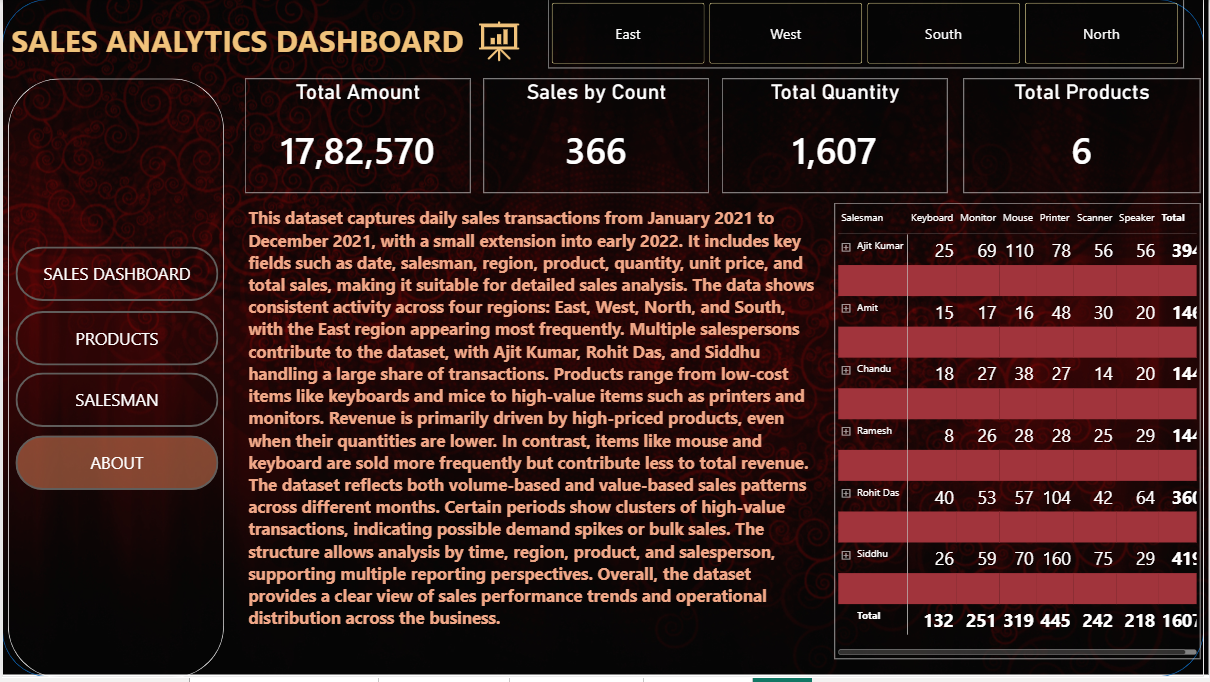

The page's visual inventory and layout, read from the dashboard file:
{"tool":"powerbi","page":{"name":"about","canvas":[1920,1080],"ordinal":3},"visuals":[{"type":"shape","box":[0,0,1912.1,1078.5],"z":0},{"type":"shape","box":[9,125.5,343.6,953],"z":1000},{"type":"cardVisual","title":"Total Amount","fields":{"Data":["data.Total Sales"]},"box":[385.4,125.5,358.5,182.2],"z":2000},{"type":"cardVisual","title":"Sales  by Count","fields":{"Data":["data.Total"]},"box":[764.8,125.5,358.5,182.2],"z":3000},{"type":"cardVisual","title":"Total Quantity","fields":{"Data":["data.Total quantity"]},"box":[1144.3,125.5,358.5,182.2],"z":4000},{"type":"cardVisual","title":"Total Products","fields":{"Data":["data.Total Items"]},"box":[1529.7,125.5,376.4,182.2],"z":5000},{"type":"pivotTable","title":"Total items by Salesman","fields":{"Rows":["data.Salesman","data.Month Name"],"Values":["Sum(data.Qty)"],"Columns":["data.Item"]},"box":[1324.2,324.5,582.2,725.3],"z":7000},{"type":"actionButton","box":[20.9,394.4,322.7,86.6],"z":8000},{"type":"actionButton","box":[20.9,495.9,322.7,86.6],"z":9000},{"type":"actionButton","box":[20.9,594.5,322.7,86.6],"z":10000},{"type":"actionButton","box":[20.9,693.1,322.7,86.6],"z":11000},{"type":"textbox","box":[9.5,26.2,935.3,100.2],"z":12000},{"type":"image","box":[713.4,26.2,155.1,81.1],"z":13000},{"type":"advancedSlicerVisual","title":"Total Sales by Region","fields":{"Values":["data.Region"]},"box":[868.5,0,1011.6,109.8],"z":14000},{"type":"textbox","box":[386.5,324.5,916.2,725.3],"z":14001}]}

Visuals, with their boxes in screenshot pixels (x1, y1, x2, y2), scaled from the page's 1920x1080 canvas onto the 1210x682 screenshot:
shape: <bbox>0, 0, 1205, 681</bbox>
shape: <bbox>6, 79, 222, 681</bbox>
"Total Amount" cardVisual: <bbox>243, 79, 469, 194</bbox>
"Sales  by Count" cardVisual: <bbox>482, 79, 708, 194</bbox>
"Total Quantity" cardVisual: <bbox>721, 79, 947, 194</bbox>
"Total Products" cardVisual: <bbox>964, 79, 1201, 194</bbox>
"Total items by Salesman" pivotTable: <bbox>835, 205, 1201, 663</bbox>
actionButton: <bbox>13, 249, 217, 304</bbox>
actionButton: <bbox>13, 313, 217, 368</bbox>
actionButton: <bbox>13, 375, 217, 430</bbox>
actionButton: <bbox>13, 438, 217, 492</bbox>
textbox: <bbox>6, 17, 595, 80</bbox>
image: <bbox>450, 17, 547, 68</bbox>
"Total Sales by Region" advancedSlicerVisual: <bbox>547, 0, 1185, 69</bbox>
textbox: <bbox>244, 205, 821, 663</bbox>
